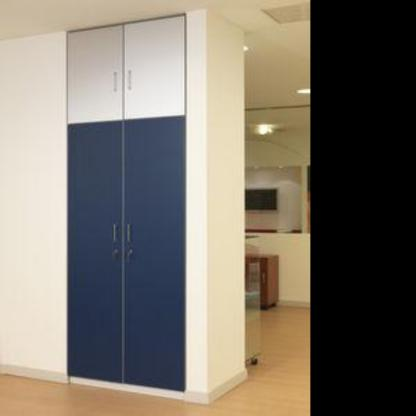Cabinet: (246, 252, 280, 308)
